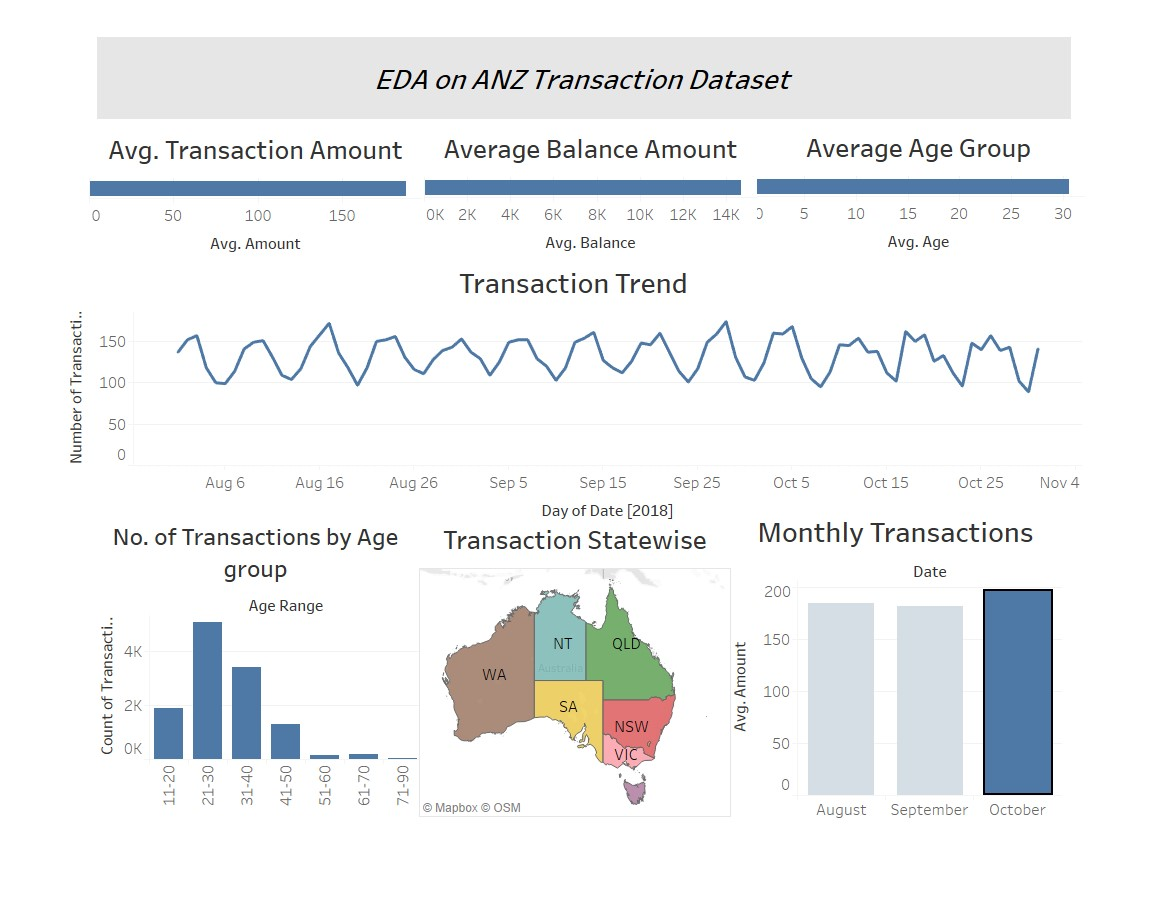

Layout of this report page (visuals, bound fields, positions):
{"tool":"tableau","page":{"name":"Preliminary Analysis","canvas":[1000,800],"ordinal":1},"visuals":[{"type":"text","box":[12,15,974,82]},{"type":"worksheet","title":" Average Age Group","mark":"Bar","cols":["age"],"box":[667,104,333,266]},{"type":"worksheet","title":"Average Balance Amount","mark":"Automatic","cols":["balance"],"box":[339,105,333,266]},{"type":"worksheet","title":"Average Transaction Amount","mark":"Automatic","cols":["amount"],"box":[4,106,333,266]},{"type":"worksheet","title":"Monthly Transactions","mark":"Bar","rows":["amount"],"cols":["date"],"box":[644,487,333,311]},{"type":"worksheet","title":"No. of Transactions by Age group","mark":"Automatic","rows":["transaction_id"],"box":[4,494,333,303]},{"type":"worksheet","title":"Transaction Statewise","mark":"Multipolygon","box":[334,496,312,299]}]}

Visuals, with their boxes on the page's 1000x800 design canvas (x1, y1, x2, y2). These are canvas units, not pixel positions in the 1172x902 screenshot, which may show the page scaled, cropped or inside an application window:
text: BBox(12, 15, 986, 97)
" Average Age Group" worksheet (Bar marks): BBox(667, 104, 1000, 370)
"Average Balance Amount" worksheet: BBox(339, 105, 672, 371)
"Average Transaction Amount" worksheet: BBox(4, 106, 337, 372)
"Monthly Transactions" worksheet (Bar marks): BBox(644, 487, 977, 798)
"No. of Transactions by Age group" worksheet: BBox(4, 494, 337, 797)
"Transaction Statewise" worksheet (Multipolygon marks): BBox(334, 496, 646, 795)
